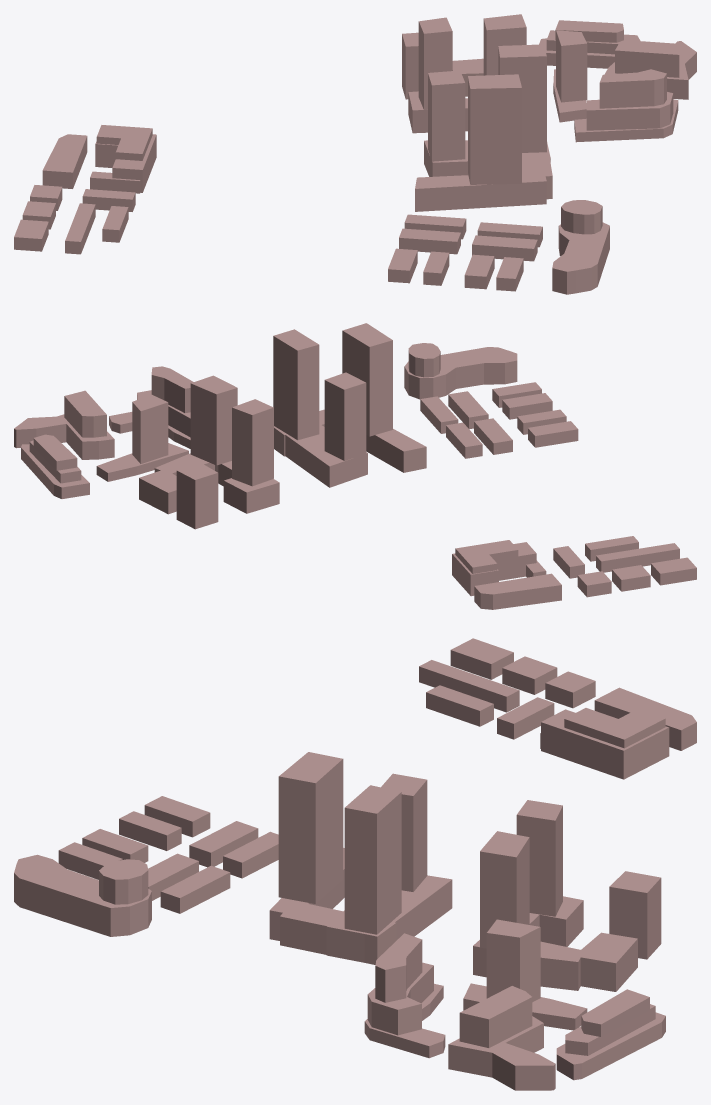
The model's file is brightwater-missing-blocks-concept.glb.
The picture shows the model from 3 angles, top to bottom: view 1: azimuth 30°, elevation 25°; view 2: azimuth 150°, elevation 25°; view 3: azimuth 270°, elevation 25°; orthographic projection. The views are drawn at different scales.
Visible parts, largest first — view 1: wf-brightwater-P1-tower, wf-brightwater-P-podium-six-unioned, wf-brightwater-P3-tower, wf-brightwater-P2-tower, wf-brightwater-O2-six-storey-wing, wf-brightwater-U1-tower, wf-brightwater-U2-tower, wf-brightwater-U1-podium-eight, wf-brightwater-Q2-tower, wf-brightwater-U3-tower, wf-brightwater-B1-midrise, wf-brightwater-Q1-tower (+26 smaller); view 2: wf-brightwater-P-podium-six-unioned, wf-brightwater-P3-tower, wf-brightwater-P1-tower, wf-brightwater-O2-six-storey-wing, wf-brightwater-Q-podium-six-unioned, wf-brightwater-Q1-tower, wf-brightwater-P2-tower, wf-brightwater-Q2-tower, wf-brightwater-Q3-tower, wf-brightwater-B1-midrise, wf-brightwater-U3-podium-five, wf-brightwater-U2-tower (+25 smaller); view 3: wf-brightwater-P1-tower, wf-brightwater-P3-tower, wf-brightwater-P-podium-six-unioned, wf-brightwater-Q-podium-six-unioned, wf-brightwater-O2-six-storey-wing, wf-brightwater-U3-podium-five, wf-brightwater-Q1-tower, wf-brightwater-B2-base, wf-brightwater-Q2-tower, wf-brightwater-U2-tower, wf-brightwater-Q3-tower, wf-brightwater-U3-tower (+25 smaller).
Boxes of the visible parts, x1=… form: wf-brightwater-P1-tower: x1=468, y1=74, x2=521, y2=184; wf-brightwater-P-podium-six-unioned: x1=415, y1=140, x2=552, y2=211; wf-brightwater-P3-tower: x1=498, y1=44, x2=546, y2=152; wf-brightwater-P2-tower: x1=428, y1=70, x2=465, y2=161; wf-brightwater-O2-six-storey-wing: x1=552, y1=222, x2=609, y2=294; wf-brightwater-U1-tower: x1=599, y1=69, x2=666, y2=108; wf-brightwater-U2-tower: x1=556, y1=30, x2=587, y2=102; wf-brightwater-U1-podium-eight: x1=586, y1=92, x2=673, y2=130; wf-brightwater-Q2-tower: x1=418, y1=17, x2=452, y2=109; wf-brightwater-U3-tower: x1=615, y1=40, x2=679, y2=77; wf-brightwater-B1-midrise: x1=42, y1=134, x2=87, y2=188; wf-brightwater-Q1-tower: x1=483, y1=14, x2=526, y2=75; wf-brightwater-P-podium-six-unioned: x1=274, y1=409, x2=426, y2=487; wf-brightwater-P3-tower: x1=273, y1=329, x2=319, y2=440; wf-brightwater-P1-tower: x1=342, y1=323, x2=392, y2=436; wf-brightwater-O2-six-storey-wing: x1=404, y1=347, x2=517, y2=399; wf-brightwater-Q-podium-six-unioned: x1=139, y1=453, x2=279, y2=514; wf-brightwater-Q1-tower: x1=190, y1=375, x2=237, y2=465; wf-brightwater-P2-tower: x1=324, y1=372, x2=366, y2=460; wf-brightwater-Q2-tower: x1=232, y1=399, x2=273, y2=486; wf-brightwater-Q3-tower: x1=176, y1=462, x2=218, y2=529; wf-brightwater-B1-midrise: x1=474, y1=573, x2=561, y2=609; wf-brightwater-U3-podium-five: x1=14, y1=414, x2=114, y2=459; wf-brightwater-U2-tower: x1=132, y1=394, x2=168, y2=463; wf-brightwater-P1-tower: x1=278, y1=752, x2=343, y2=903; wf-brightwater-P3-tower: x1=344, y1=785, x2=401, y2=934; wf-brightwater-P-podium-six-unioned: x1=269, y1=848, x2=452, y2=964; wf-brightwater-Q-podium-six-unioned: x1=473, y1=896, x2=637, y2=991; wf-brightwater-O2-six-storey-wing: x1=14, y1=854, x2=151, y2=936; wf-brightwater-U3-podium-five: x1=448, y1=1016, x2=555, y2=1090; wf-brightwater-Q1-tower: x1=480, y1=831, x2=529, y2=948; wf-brightwater-B2-base: x1=541, y1=709, x2=669, y2=779; wf-brightwater-Q2-tower: x1=516, y1=800, x2=562, y2=916; wf-brightwater-U2-tower: x1=486, y1=919, x2=540, y2=1002; wf-brightwater-Q3-tower: x1=609, y1=871, x2=661, y2=959; wf-brightwater-U3-tower: x1=459, y1=986, x2=532, y2=1047.
Bounding box in the file's own units: 686 × 112 × 461.
